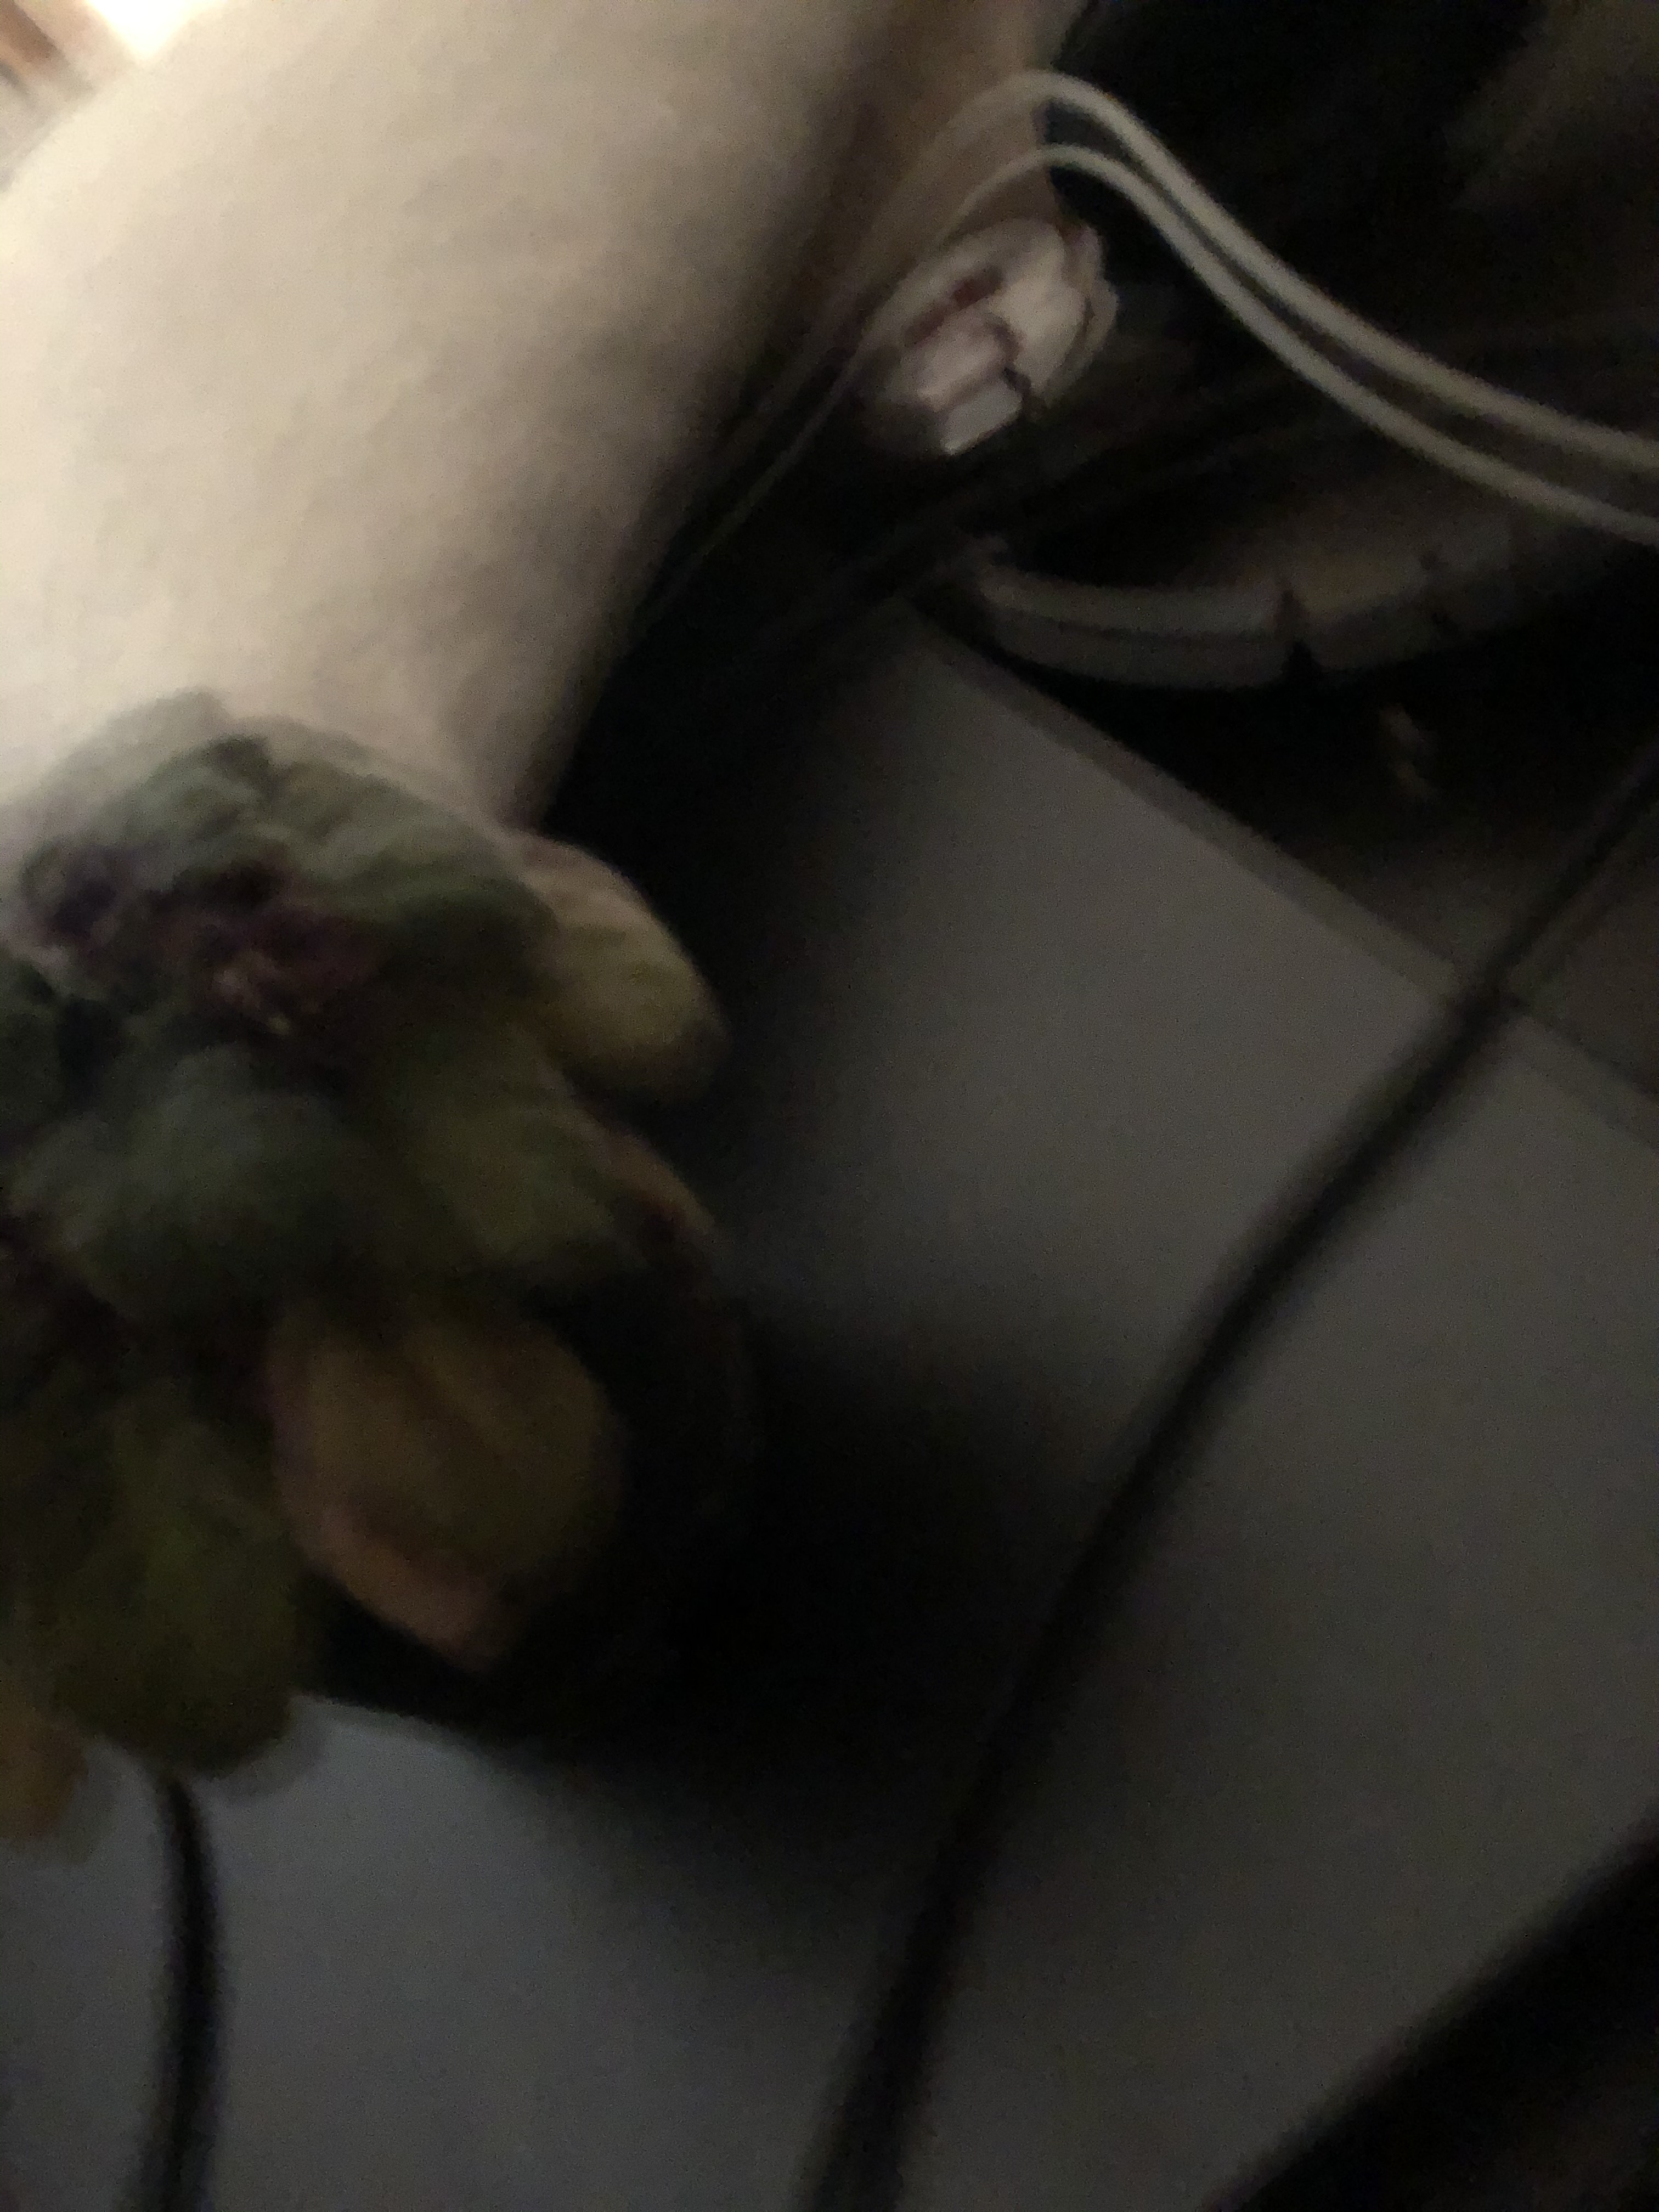ignore: (17, 742, 749, 1747)
